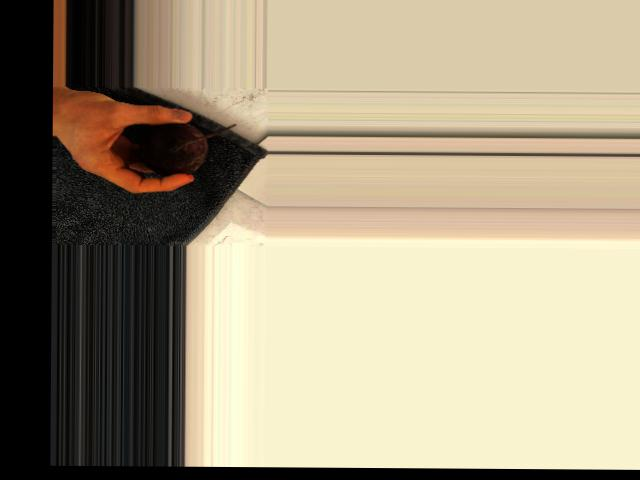beet: (139, 122, 236, 176)
